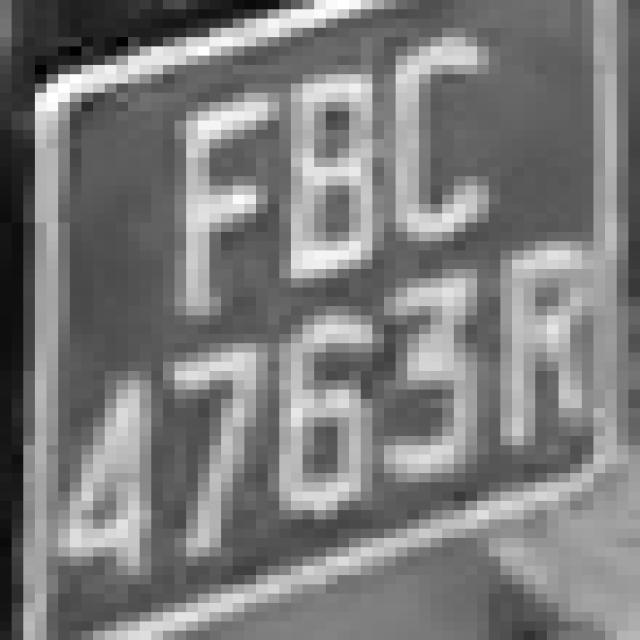3: (338, 251, 466, 510)
4: (23, 362, 186, 612)
6: (256, 288, 372, 538)
7: (151, 334, 256, 584)
B: (256, 65, 372, 306)
C: (384, 9, 500, 269)
F: (163, 83, 291, 324)
R: (454, 232, 593, 473)
